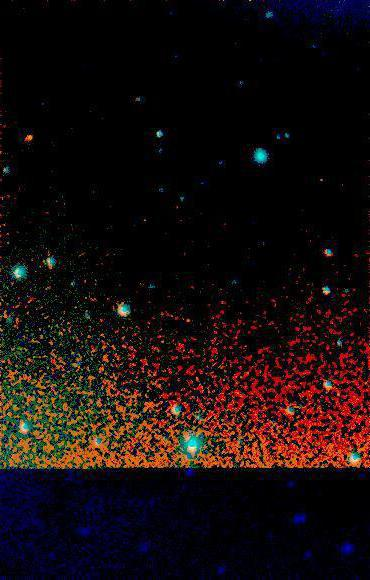star: (12, 126, 42, 156)
